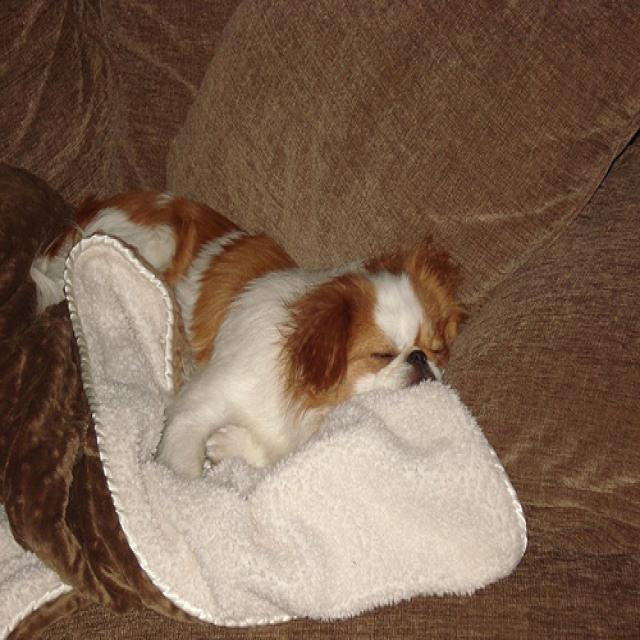dog-japanese_chin: (18, 176, 472, 486)
